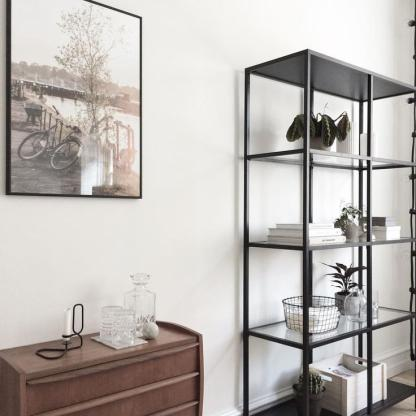lamp: (242, 49, 416, 416)
